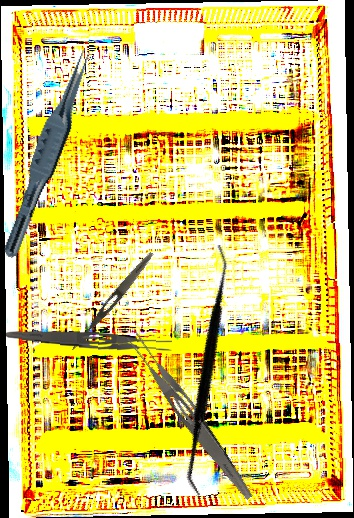Dressing Forceps: (122, 329, 261, 503), (68, 249, 157, 354), (5, 327, 173, 355)
Spatula Surgical: (105, 242, 314, 498)
Tissue Forceps: (1, 43, 97, 263)
